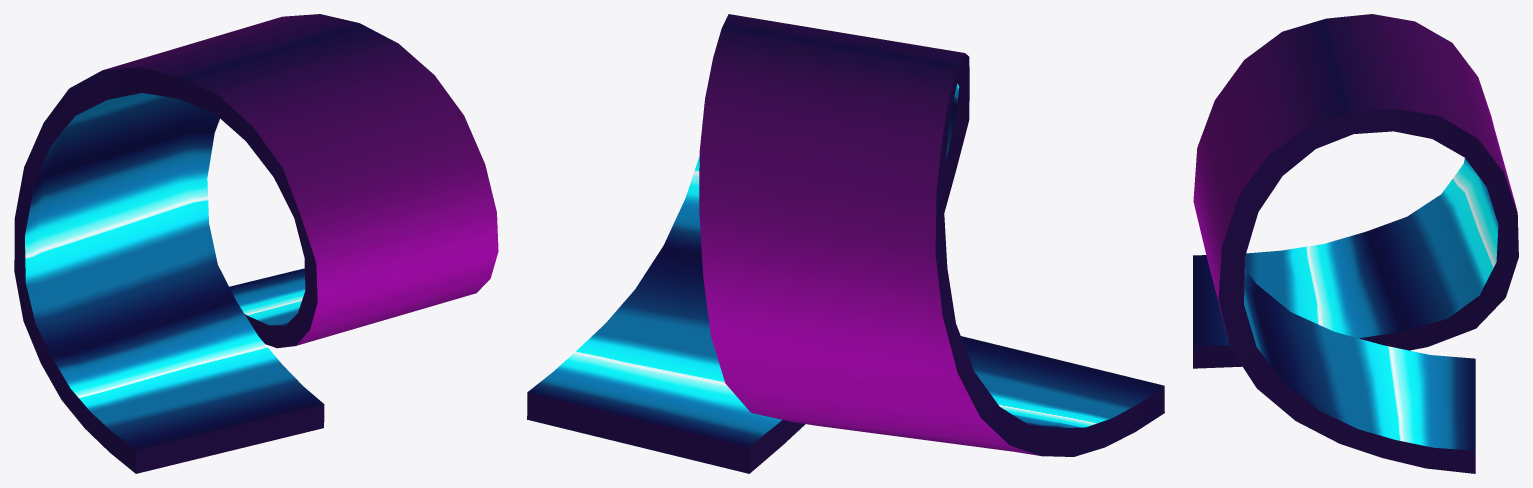
Rendered from urban_loop_small.gltf.
3 views of the same model, side by side, from view 1: azimuth 30°, elevation 25°; view 2: azimuth 150°, elevation 25°; view 3: azimuth 270°, elevation 25° (orthographic). The views are drawn at different scales.
Visible parts, largest first — view 1: urban_loop_small_glb; view 2: urban_loop_small_glb; view 3: urban_loop_small_glb.
Boxes of the visible parts, x1,y1,x2,y2 form: urban_loop_small_glb: (14, 14, 498, 473); urban_loop_small_glb: (527, 14, 1164, 473); urban_loop_small_glb: (1193, 14, 1518, 473).
Size of what is drawn, in the model's own units: 4.5 by 3.37 by 3.17.
1 material, 1 textured.
